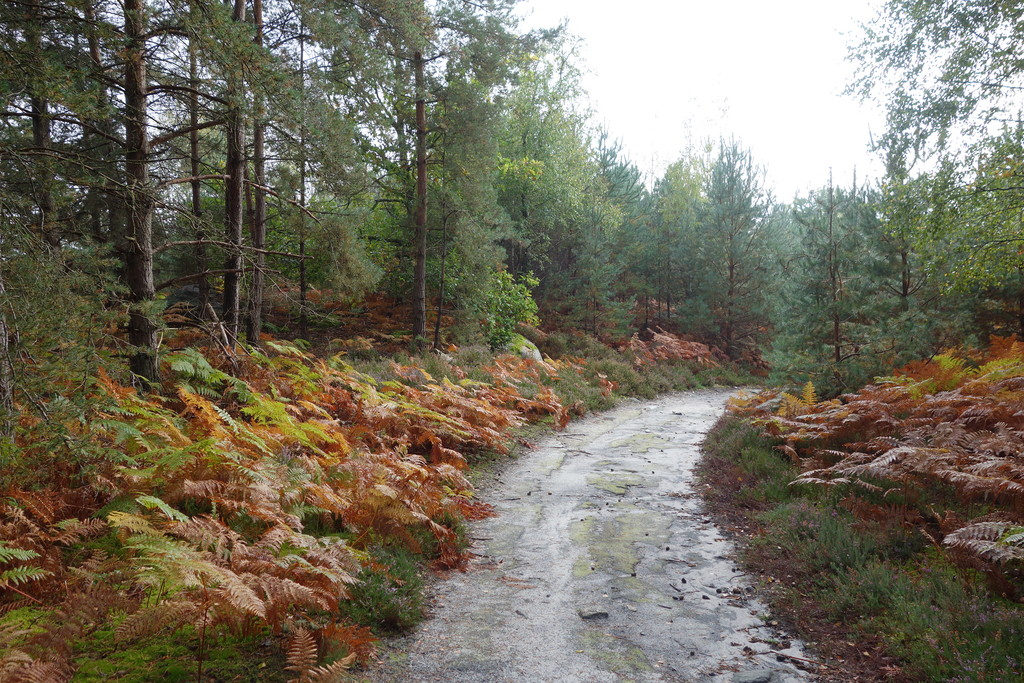Tree: (323, 0, 1023, 400), (0, 1, 322, 387)
